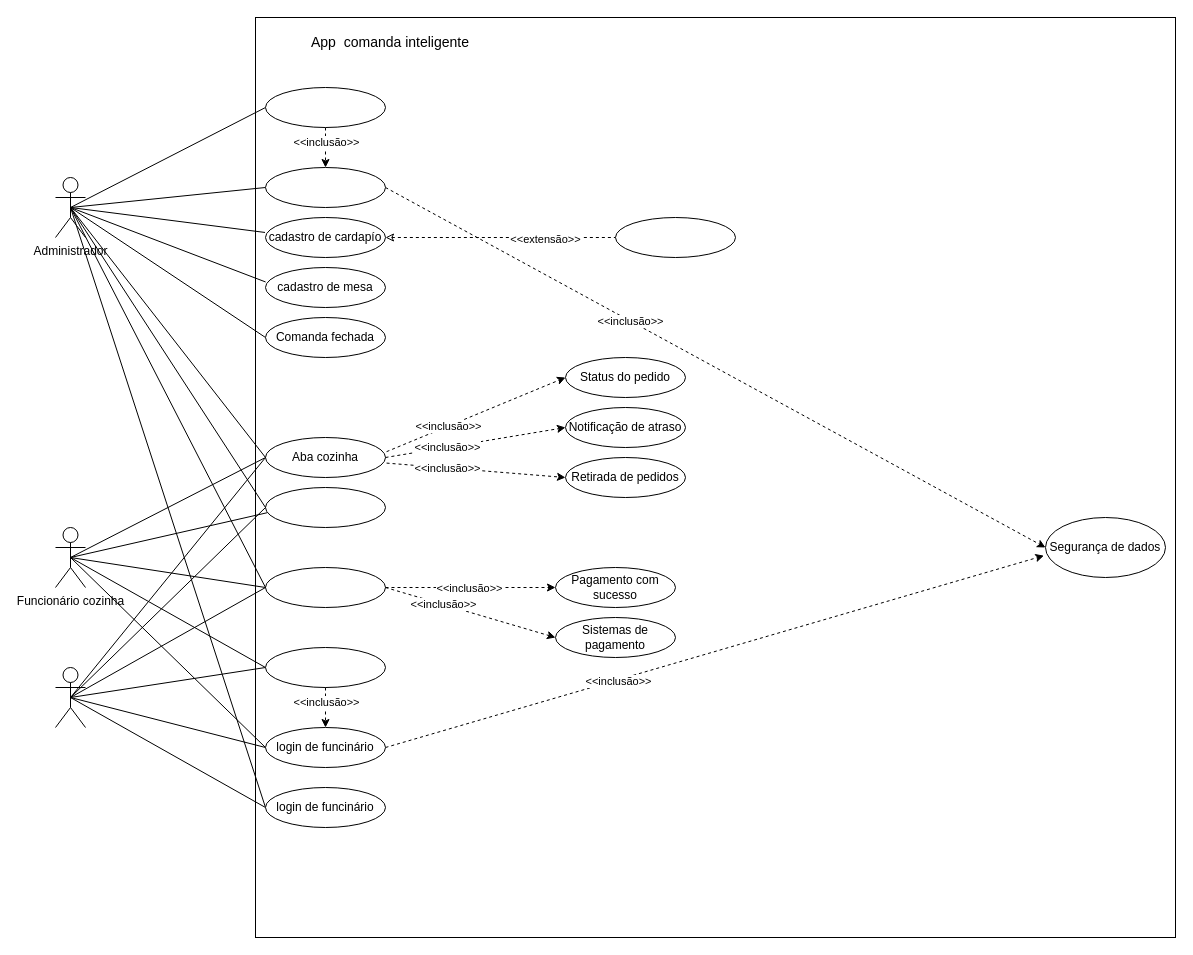
The diagram is 1193 pixels wide and 955 high, and some of its shapes have lost their labels. Here are the shapes that lost their labels. From the top down, the centre of each, then its label:
At point 325,107: "Cadastro de administrador".
At point 325,187: "login de administrador".
At point 675,237: "backup".
At point 325,507: "Aba garçom".
At point 325,587: "Aba pagamento".
At point 325,667: "Cadastro de funcionário".
At point 70,697: "Funcionário garçom".
